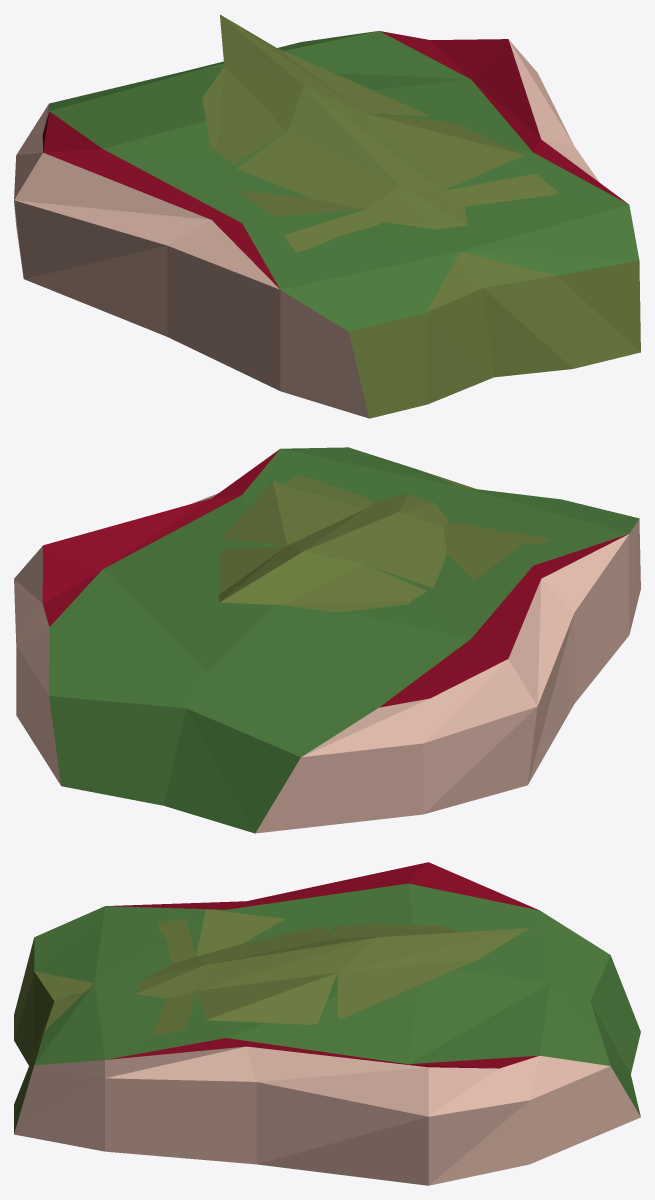
File: inv_wrapped_oomlie.obj
3 renders of one model, top to bottom at view 1: azimuth 30°, elevation 25°; view 2: azimuth 150°, elevation 25°; view 3: azimuth 270°, elevation 25°, orthographic. The views are drawn at different scales.
Size of the model in its own units: 0.4219 by 0.125 by 0.4844.
